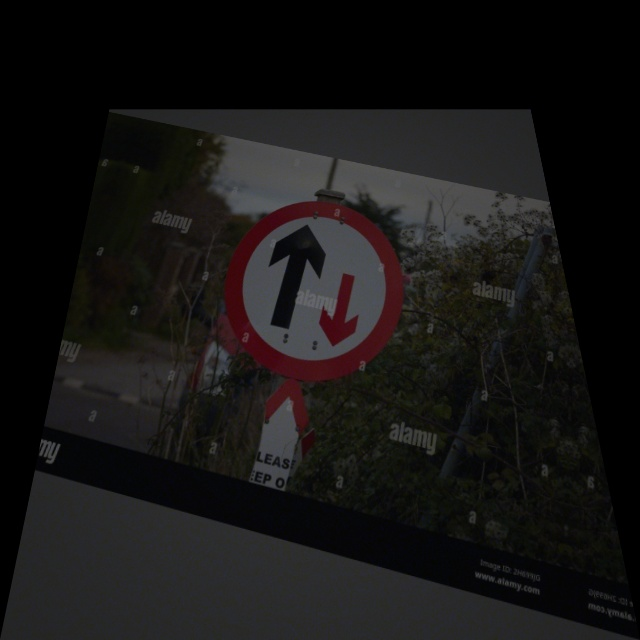Priority_for_Oncoming_Traffic: (195, 185, 432, 402)
